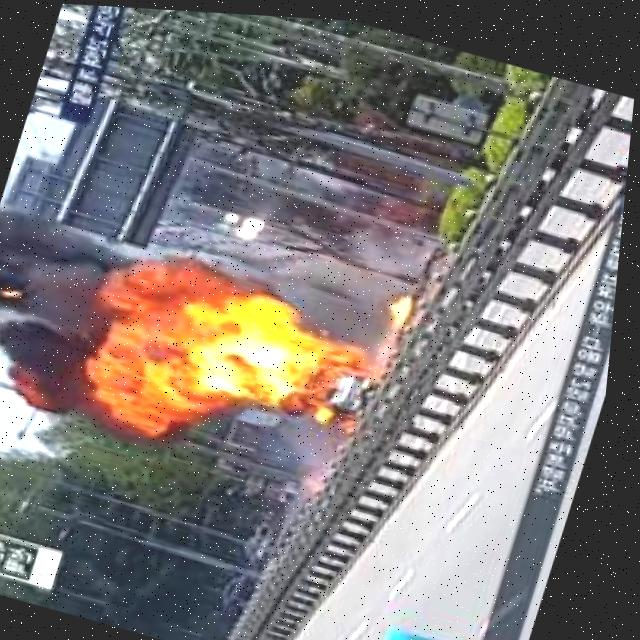Fire: (60, 231, 399, 481), (387, 279, 428, 319)
Smoke: (0, 205, 133, 418)
